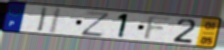1: (115, 13, 131, 40)
2: (171, 18, 198, 45)
F: (141, 15, 175, 42)
I: (47, 7, 64, 35), (36, 7, 49, 33)
Z: (80, 10, 112, 38)
